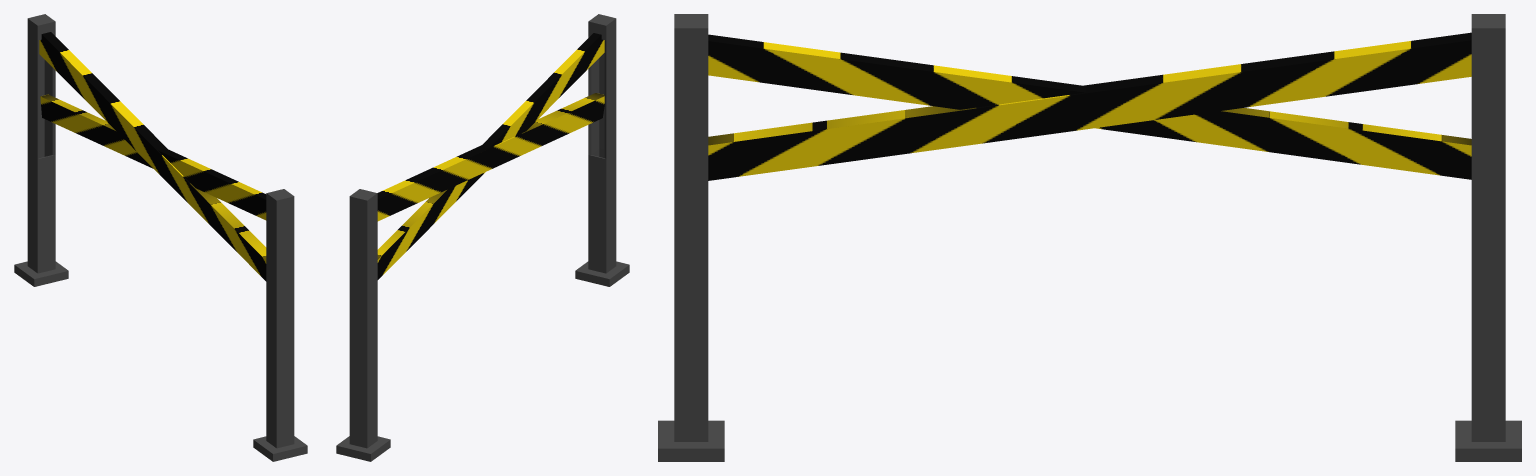
The model's file is LineCorreta2.fbx.
The picture shows the model from 3 angles, left to right: view 1: azimuth 30°, elevation 25°; view 2: azimuth 150°, elevation 25°; view 3: azimuth 270°, elevation 25°; orthographic projection. The views are drawn at different scales.
Parts seen in each view (by area): view 1: Cube.003; view 2: Cube.003; view 3: Cube.003.
Part boxes in pixels (box(x1,y1,x2,y2)): Cube.003: box(14, 14, 307, 461); Cube.003: box(336, 14, 629, 461); Cube.003: box(658, 14, 1521, 461).
Bounding box in the file's own units: 1001 × 7078 × 12984.
